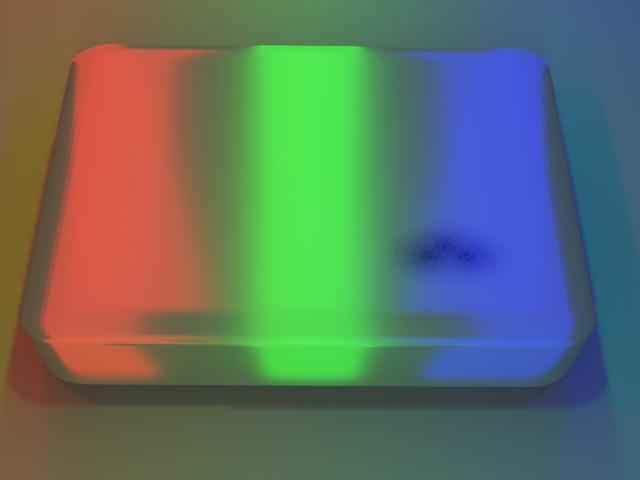stain: (354, 185, 572, 316)
